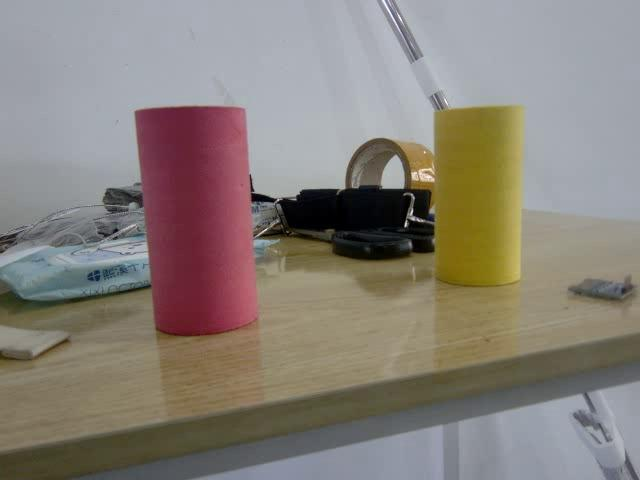red_cylinder: (134, 106, 259, 337)
yellow_cylinder: (434, 104, 525, 288)
